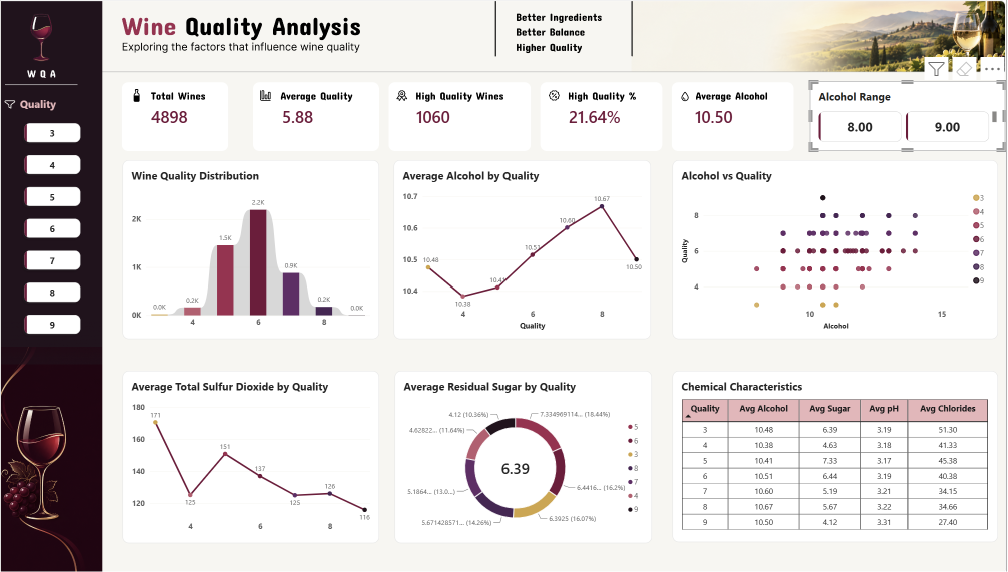

This screenshot's page, from the dashboard's own definition file:
{"tool":"powerbi","page":{"name":"Page 1","canvas":[1920,1080],"ordinal":0},"visuals":[{"type":"image","box":[0,0,1920,1080.5],"z":0},{"type":"columnChart","title":"Wine Quality Distribution","fields":{"Category":["winequality_white_new.quality"],"Y":["winequality_white_new.Total Quantity"]},"box":[254.3,302.2,483.8,336.6],"z":1000},{"type":"lineChart","title":"Average Alcohol by Quality","fields":{"Category":["winequality_white_new.quality"],"Y":["Avg(winequality_white_new.alcohol_new)"]},"box":[766.9,302.2,483.8,336.6],"z":2000},{"type":"scatterChart","title":"Alcohol vs Quality","fields":{"Category":["winequality_white_new.wine_id"],"Series":["winequality_white_new.quality"],"X":["Avg(winequality_white_new.alcohol_new)"],"Y":["Avg(winequality_white_new.quality)"]},"box":[1290.8,302.2,613.9,336.6],"z":3000},{"type":"donutChart","title":"Average Residual Sugar by Quality","fields":{"Category":["winequality_white_new.quality"],"Y":["Avg(winequality_white_new.residual sugar)"]},"box":[768.8,698,483.8,325.1],"z":4000},{"type":"lineChart","title":"Average Total Sulfur Dioxide by Quality","fields":{"Category":["winequality_white_new.quality"],"Y":["Avg(winequality_white_new.total sulfur dioxide)"]},"box":[254.3,698,483.8,325.1],"z":5000},{"type":"tableEx","title":"Chemical Characteristics","fields":{"Values":["Sum(winequality_white_new.quality)","winequality_white_new.Average Alcohol","Avg(winequality_white_new.residual sugar)","Avg(winequality_white_new.pH)","Avg(winequality_white_new.chlorides)"]},"box":[1290.8,698,613.9,323.2],"z":6000},{"type":"cardVisual","fields":{"Data":["winequality_white_new.Total Quantity"]},"box":[292.6,162.5,135.8,114.7],"z":7000},{"type":"cardVisual","fields":{"Data":["winequality_white_new.Average Quality"]},"box":[539.3,162.5,120.5,114.7],"z":8000},{"type":"cardVisual","fields":{"Data":["winequality_white_new.High Quality Wines"]},"box":[791.7,162.5,120.5,114.7],"z":9000},{"type":"cardVisual","fields":{"Data":["winequality_white_new.High Quality %"]},"box":[1078.6,162.5,147.3,114.7],"z":10000},{"type":"cardVisual","fields":{"Data":["winequality_white_new.Average Alcohol"]},"box":[1317.6,162.5,147.3,114.7],"z":11000},{"type":"advancedSlicerVisual","title":"Alcohol Range","fields":{"Values":["winequality_white_new.alcohol_new"]},"box":[1548.8,153.8,371,132],"z":12000},{"type":"advancedSlicerVisual","fields":{"Values":["winequality_white_new.Quality"]},"box":[45.3,167.9,154.7,488.7],"z":12001}]}

Visuals, with their boxes in screenshot pixels (x1, y1, x2, y2), scaled from the page's 1920x1080 canvas onto the 1008x572 screenshot:
image: box(0, 0, 1007, 571)
"Wine Quality Distribution" columnChart: box(134, 160, 388, 338)
"Average Alcohol by Quality" lineChart: box(403, 160, 657, 338)
"Alcohol vs Quality" scatterChart: box(678, 160, 1000, 338)
"Average Residual Sugar by Quality" donutChart: box(404, 370, 658, 542)
"Average Total Sulfur Dioxide by Quality" lineChart: box(134, 370, 388, 542)
"Chemical Characteristics" tableEx: box(678, 370, 1000, 541)
cardVisual - winequality_white_new.Total Quantity: box(154, 86, 225, 147)
cardVisual - winequality_white_new.Average Quality: box(283, 86, 346, 147)
cardVisual - winequality_white_new.High Quality Wines: box(416, 86, 479, 147)
cardVisual - winequality_white_new.High Quality %: box(566, 86, 644, 147)
cardVisual - winequality_white_new.Average Alcohol: box(692, 86, 769, 147)
"Alcohol Range" advancedSlicerVisual: box(813, 81, 1007, 151)
advancedSlicerVisual - winequality_white_new.Quality: box(24, 89, 105, 348)
